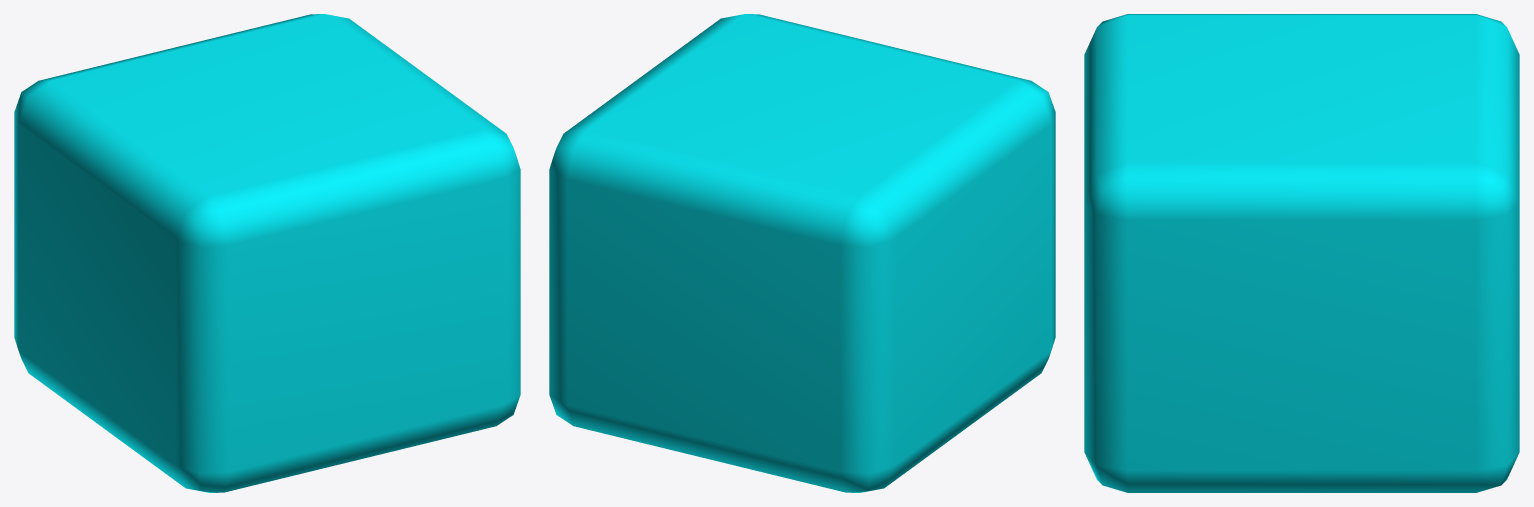
Rendered from interior_harness_mount_r_2.glb.
The picture shows the model from 3 angles, left to right: view 1: azimuth 30°, elevation 25°; view 2: azimuth 150°, elevation 25°; view 3: azimuth 270°, elevation 25°; orthographic projection. The views are drawn at different scales.
Visible parts, largest first — view 1: INTERIOR_Harness_Mount_R_2; view 2: INTERIOR_Harness_Mount_R_2; view 3: INTERIOR_Harness_Mount_R_2.
Part boxes in pixels (x1,y1,x2,y2): INTERIOR_Harness_Mount_R_2: (14,14,520,492); INTERIOR_Harness_Mount_R_2: (549,14,1055,492); INTERIOR_Harness_Mount_R_2: (1084,14,1519,492).
Bounding box in the file's own units: 0.03 × 0.025 × 0.03.
